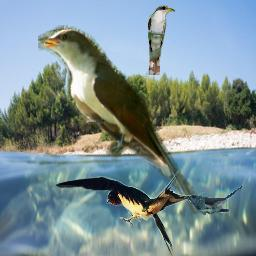Cuckoo: (38, 24, 203, 214), (147, 5, 175, 75), (183, 185, 245, 216)
Swallow: (52, 169, 218, 256)
